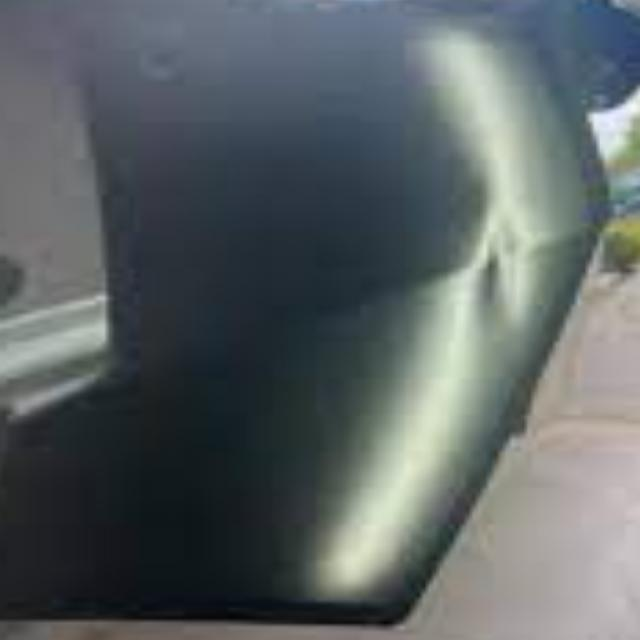dents: (459, 195, 536, 358), (130, 35, 217, 110)
